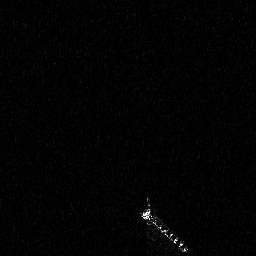ship: (135, 194, 190, 254)
